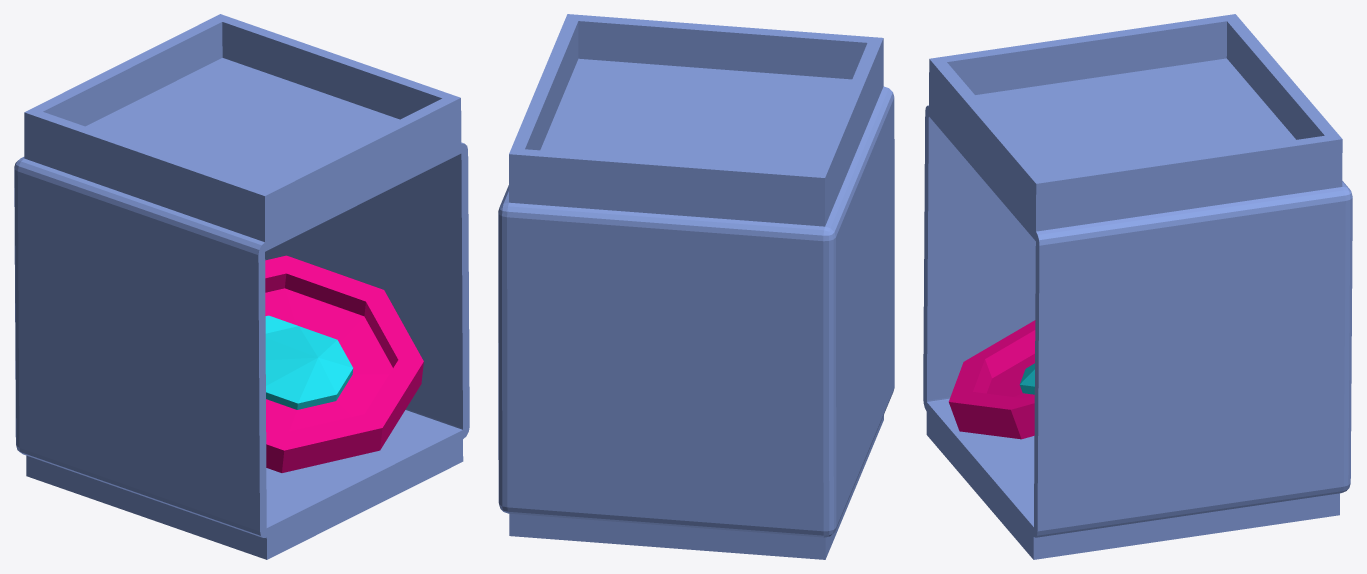
Rendered from meelk_factoryx1.glb.
3 renders of one model, left to right at view 1: azimuth 30°, elevation 25°; view 2: azimuth 150°, elevation 25°; view 3: azimuth 270°, elevation 25°, orthographic. The views are drawn at different scales.
Visible parts, largest first — view 1: Cube.006, Cylinder.015; view 2: Cube.006; view 3: Cube.006, Cylinder.015.
Part boxes in pixels (bbox=[...]): Cube.006: bbox=[14, 14, 469, 559]; Cylinder.015: bbox=[265, 255, 423, 472]; Cube.006: bbox=[498, 14, 894, 559]; Cube.006: bbox=[923, 14, 1352, 559]; Cylinder.015: bbox=[948, 320, 1035, 439].
Size of the model in its own units: 0.5685 by 0.5531 by 0.5702.
